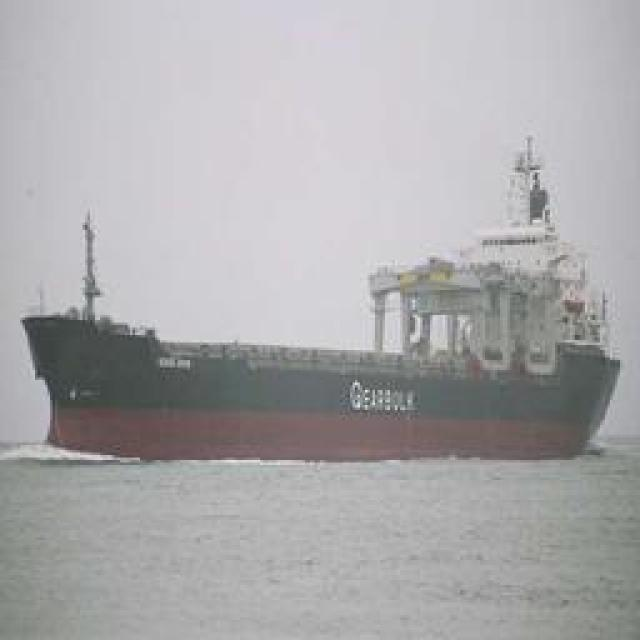ship2: (20, 135, 624, 463)
